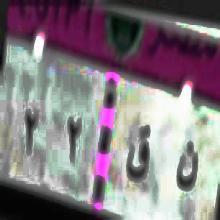2: (21, 103, 40, 158), (66, 109, 82, 170)
noon: (174, 132, 200, 196)
qaaf: (126, 122, 151, 186)
